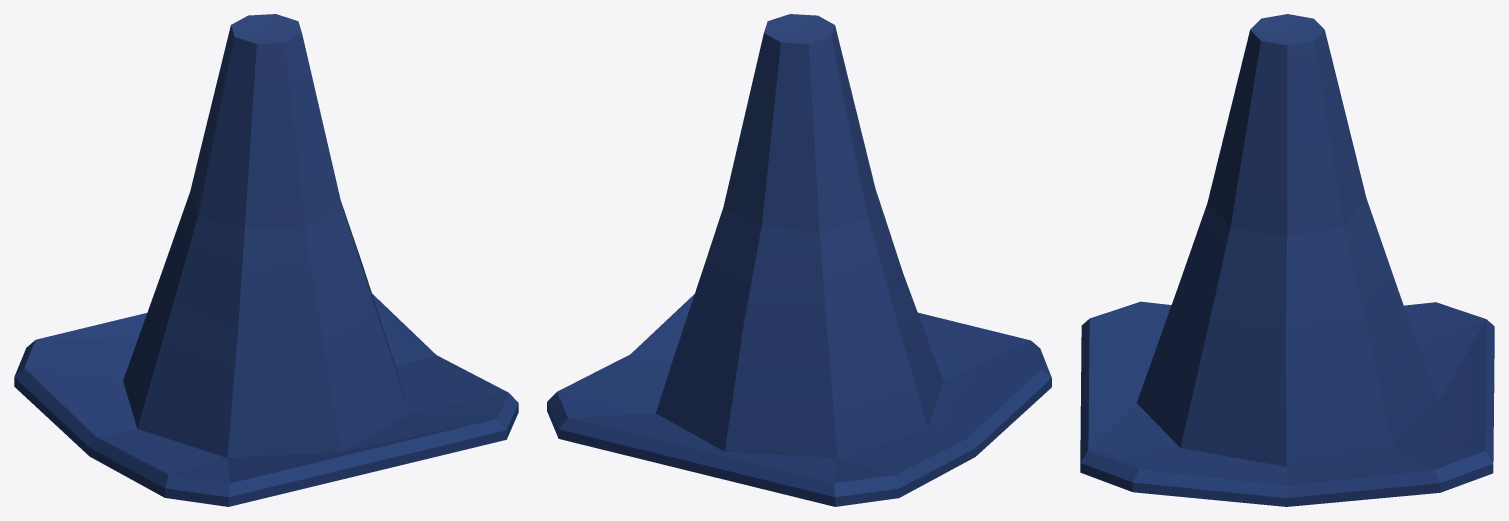
File: Traffic_Cone_Blue.glb
3 renders of one model, left to right at view 1: azimuth 30°, elevation 25°; view 2: azimuth 150°, elevation 25°; view 3: azimuth 270°, elevation 25°, orthographic.
Visible parts, largest first — view 1: Traffic_Cone_Blue; view 2: Traffic_Cone_Blue; view 3: Traffic_Cone_Blue.
Boxes of the visible parts, x1=… form: Traffic_Cone_Blue: x1=14, y1=14, x2=518, y2=506; Traffic_Cone_Blue: x1=547, y1=14, x2=1051, y2=506; Traffic_Cone_Blue: x1=1080, y1=14, x2=1494, y2=506.
Size of what is drawn, in the model's own units: 0.5267 by 0.5469 by 0.5268.
Materials: 1 (1 with a texture image).
